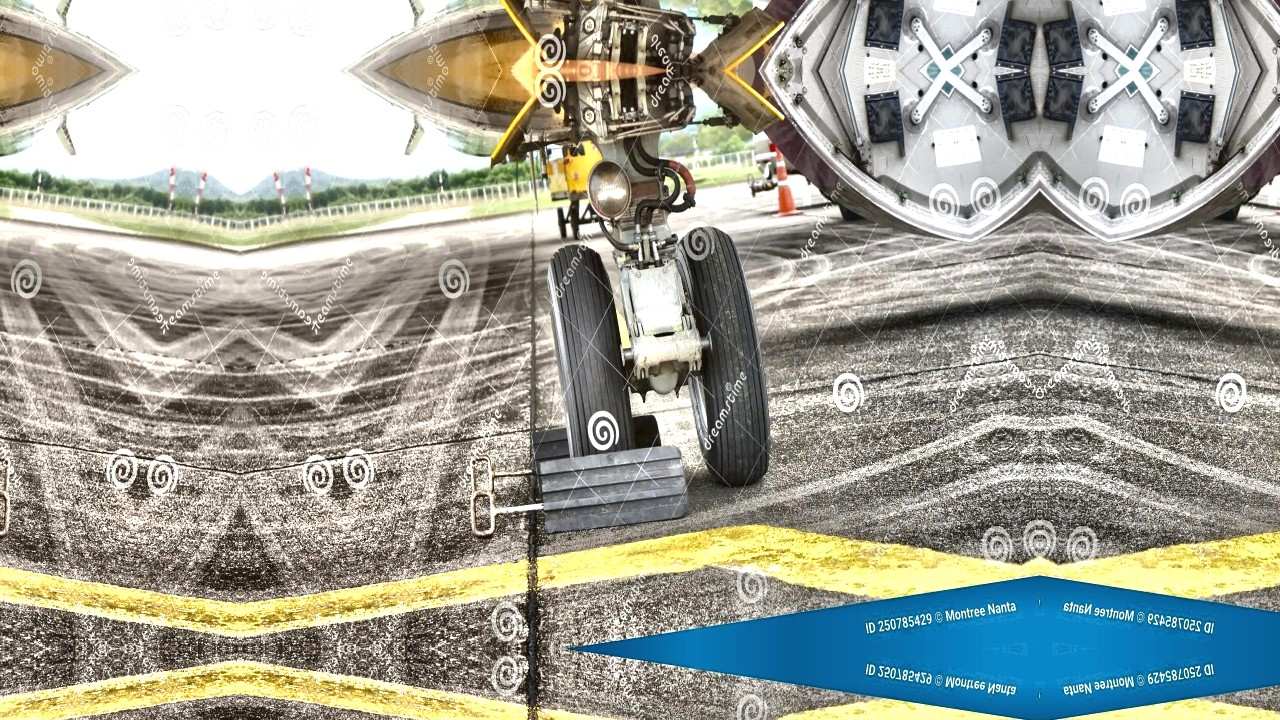chock: (534, 441, 694, 536), (524, 409, 664, 467)
wheel: (663, 223, 778, 487), (540, 237, 639, 457)
